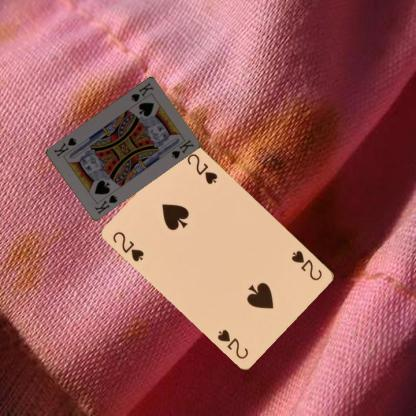2s: (110, 229, 146, 263), (289, 247, 323, 282)
Ks: (128, 80, 155, 103), (92, 192, 118, 215)
